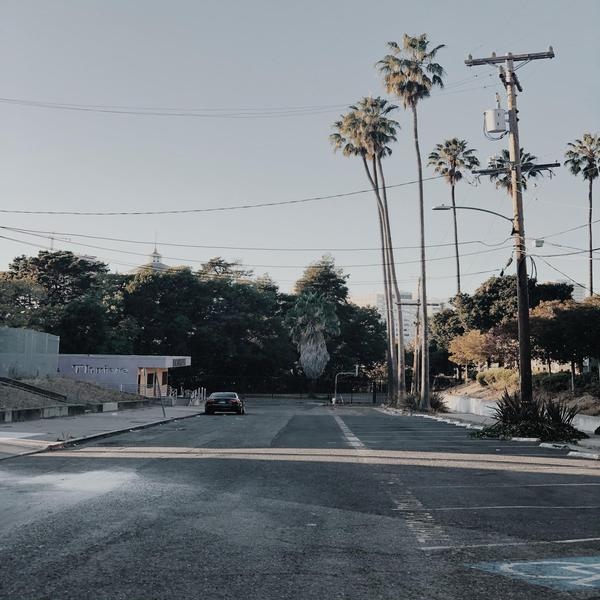utility_pole: (456, 36, 564, 150)
